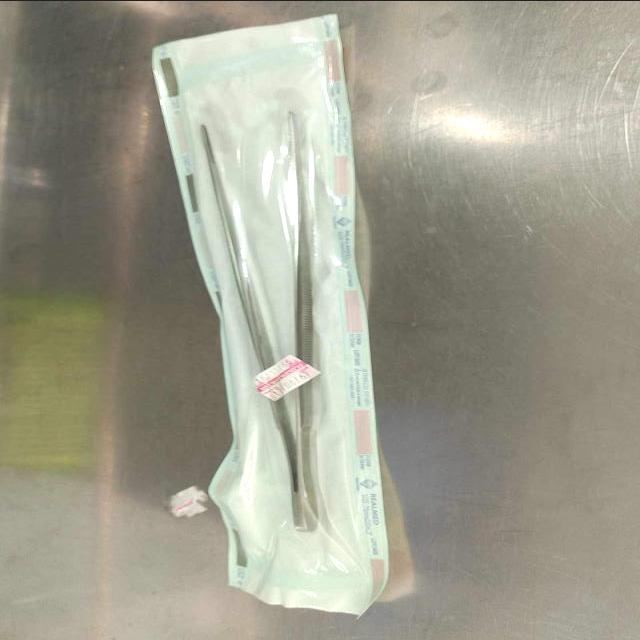General: (149, 12, 391, 619)
Sharps: (197, 112, 318, 533)
